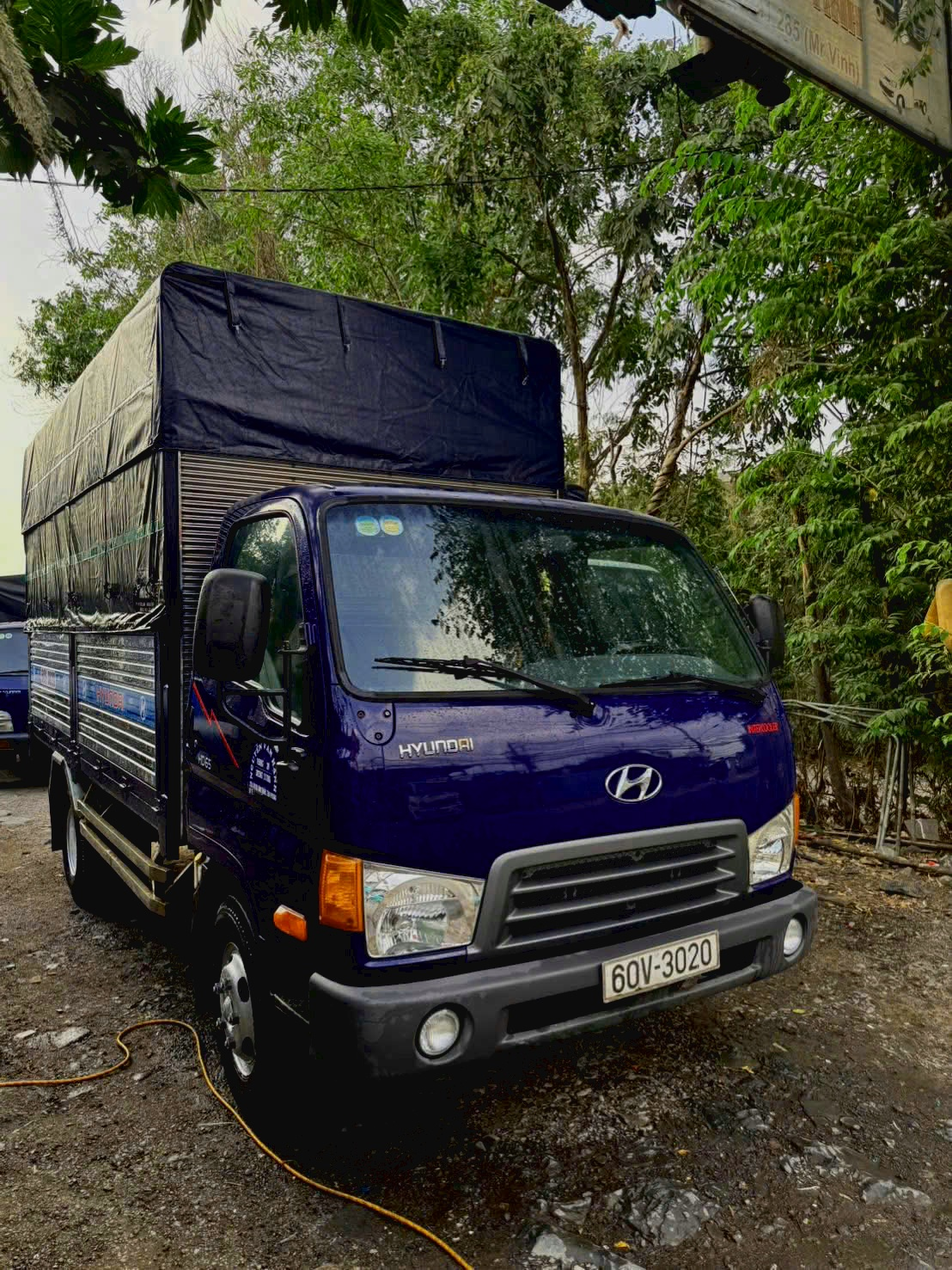Bien-so: (587, 944, 704, 1016)
